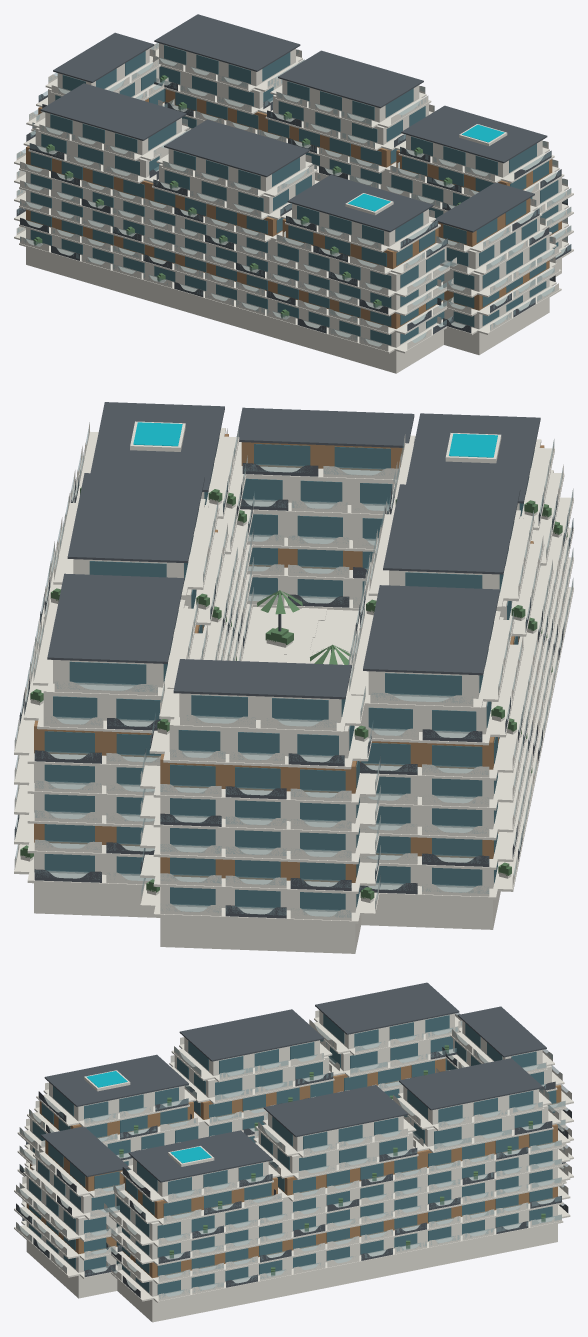
File: towns-end.glb
The picture shows the model from 3 angles, top to bottom: view 1: azimuth 30°, elevation 25°; view 2: azimuth 150°, elevation 25°; view 3: azimuth 270°, elevation 25°; orthographic projection. The views are drawn at different scales.
Visible parts, largest first — view 1: Westfluegel 3, Westfluegel 2, Westfluegel 1, Suedlicher Abschluss, Ostfluegel 2, Ostfluegel 3, Ostfluegel 1, Noerdlicher Abschluss, Zwei Dachpools am Suedende; view 2: Noerdlicher Abschluss, Westfluegel 1, Ostfluegel 1, Suedlicher Abschluss, Westfluegel 2, Ostfluegel 2, Westfluegel 3, Ostfluegel 3, Schmaler begruenter Innenhof, Zwei Dachpools am Suedende; view 3: Ostfluegel 3, Ostfluegel 1, Ostfluegel 2, Westfluegel 2, Suedlicher Abschluss, Westfluegel 3, Westfluegel 1, Noerdlicher Abschluss, Zwei Dachpools am Suedende.
Part boxes in pixels (x1,y1,x2,y2): Westfluegel 3: (265, 174, 456, 373); Westfluegel 2: (141, 119, 320, 337); Westfluegel 1: (14, 83, 190, 300); Suedlicher Abschluss: (434, 182, 561, 354); Ostfluegel 2: (255, 50, 434, 189); Ostfluegel 3: (378, 105, 573, 276); Ostfluegel 1: (149, 14, 304, 135); Noerdlicher Abschluss: (26, 32, 174, 134); Zwei Dachpools am Suedende: (345, 124, 507, 215); Noerdlicher Abschluss: (140, 659, 380, 953); Westfluegel 1: (348, 585, 533, 929); Ostfluegel 1: (14, 573, 217, 917); Suedlicher Abschluss: (226, 407, 415, 610); Westfluegel 2: (350, 484, 553, 790); Ostfluegel 2: (34, 473, 238, 660); Westfluegel 3: (381, 413, 573, 689); Ostfluegel 3: (64, 402, 254, 661); Schmaler begruenter Innenhof: (242, 590, 358, 664); Zwei Dachpools am Suedende: (130, 421, 501, 463); Ostfluegel 3: (104, 1130, 292, 1322); Ostfluegel 1: (392, 1058, 570, 1268); Ostfluegel 2: (253, 1085, 428, 1295); Westfluegel 2: (169, 1009, 342, 1142); Suedlicher Abschluss: (14, 1126, 129, 1298); Westfluegel 3: (17, 1054, 207, 1188); Westfluegel 1: (308, 982, 462, 1099); Noerdlicher Abschluss: (435, 1006, 573, 1183); Zwei Dachpools am Suedende: (84, 1070, 214, 1166).
Size of the model in its own units: 71.6 by 25.81 by 84.7.
